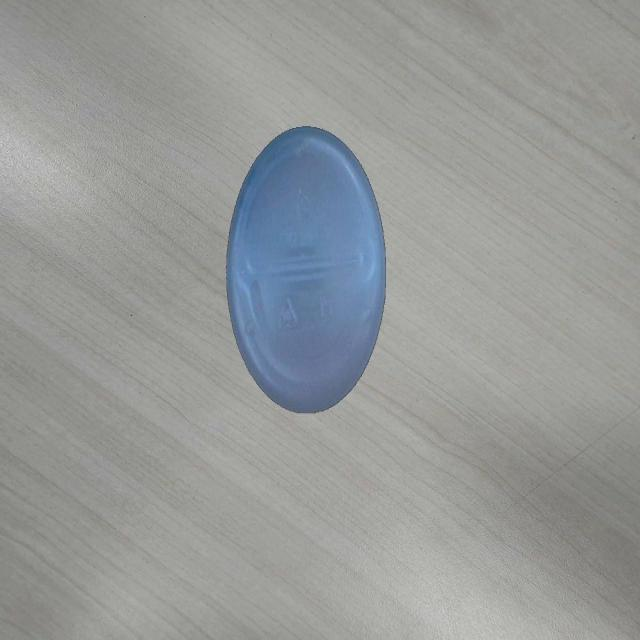bottle: (226, 125, 388, 422)
